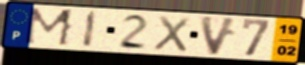2: (114, 14, 152, 50)
7: (241, 17, 272, 59)
I: (81, 9, 99, 49)
M: (23, 7, 77, 48)
V: (198, 14, 240, 57)
X: (152, 14, 192, 54)
